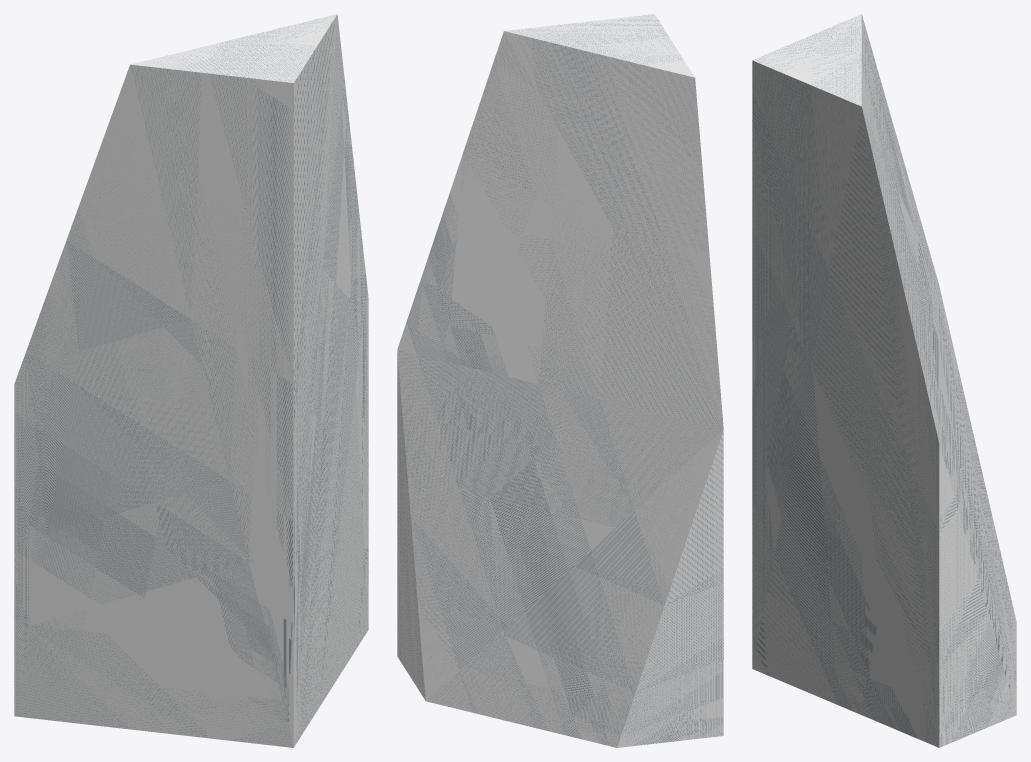
3 views of the same model, side by side, from view 1: azimuth 30°, elevation 25°; view 2: azimuth 150°, elevation 25°; view 3: azimuth 270°, elevation 25° (orthographic). The views are drawn at different scales.
Visible parts, largest first — view 1: Model; view 2: Model; view 3: Model.
Part boxes in pixels (x1=…): Model: x1=14, y1=14, x2=368, y2=747; Model: x1=397, y1=14, x2=723, y2=747; Model: x1=752, y1=14, x2=1016, y2=747.
Bounding box in the file's own units: 42.43 × 76.11 × 30.
